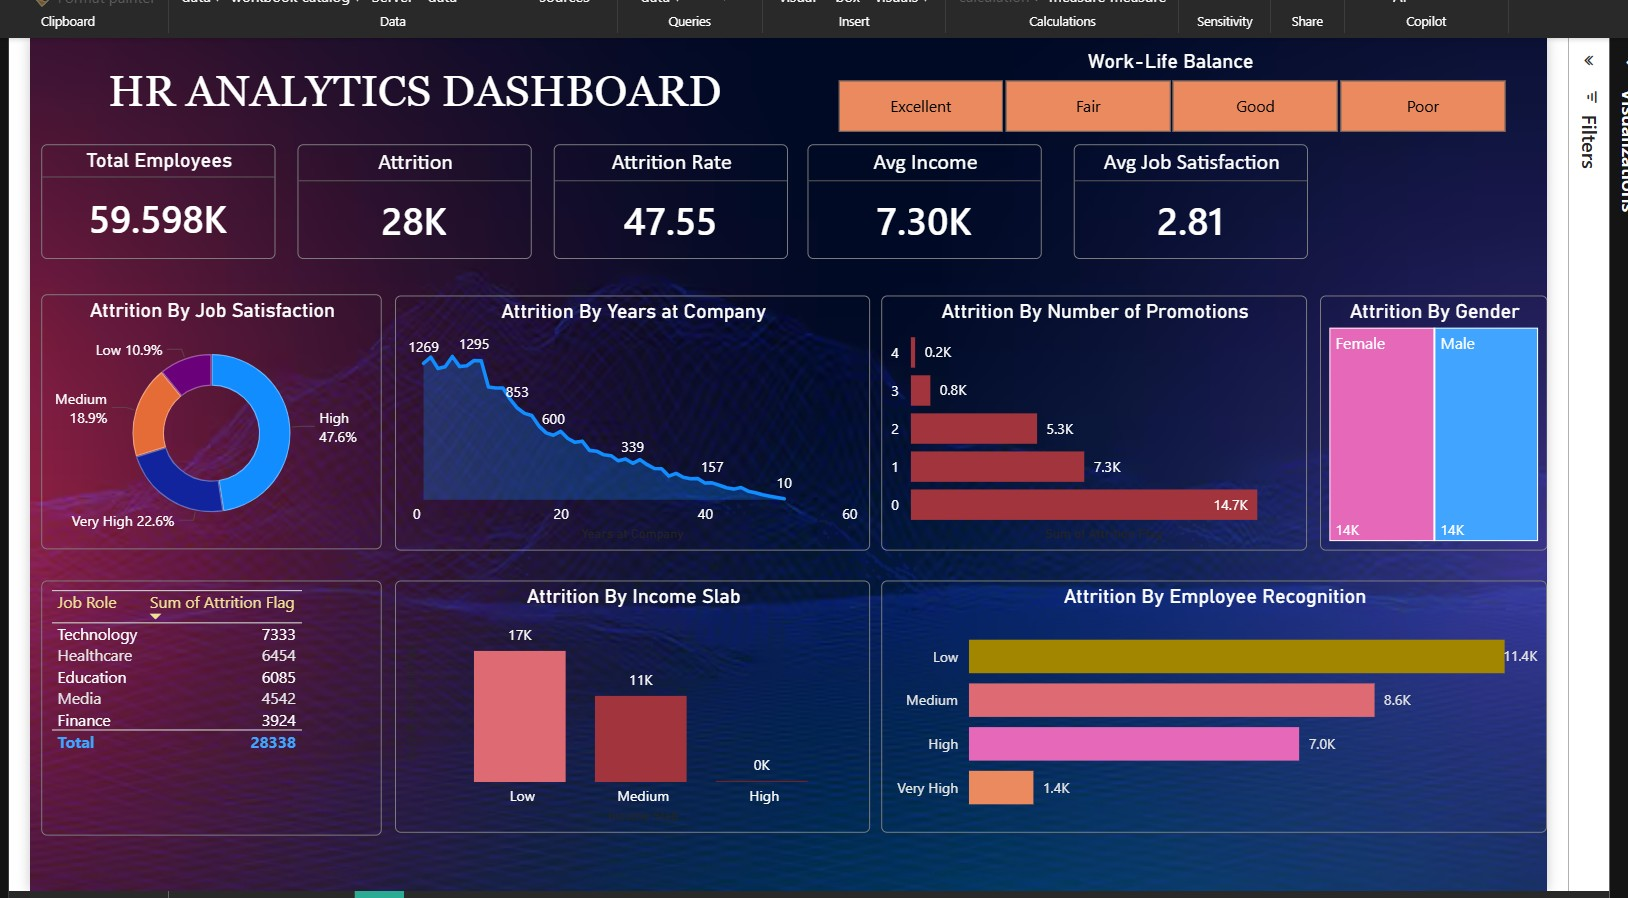

This screenshot's page, from the dashboard's own definition file:
{"tool":"powerbi","page":{"name":"Attrition Dashboard","canvas":[1280,720],"ordinal":0},"visuals":[{"type":"textbox","box":[9.3,17.4,630.2,59.3],"z":0},{"type":"cardVisual","title":"Total Employees","fields":{"Data":["CountNonNull(Table1.Employee ID)"]},"box":[9.3,89.5,197.7,96.5],"z":1000},{"type":"cardVisual","title":"Attrition ","fields":{"Data":["Sum(Table1.Attrition Flag)"]},"box":[225.6,89.5,197.7,96.5],"z":2000},{"type":"cardVisual","title":"Avg Income","fields":{"Data":["Avg(Table1.Monthly Income)"]},"box":[655.8,89.5,197.7,96.5],"z":3000},{"type":"cardVisual","title":"Attrition Rate","fields":{"Data":["Table1.Attrition Rate"]},"box":[441.9,89.5,197.7,96.5],"z":4000},{"type":"cardVisual","title":"Avg Job Satisfaction","fields":{"Data":["Avg(Table1.Satisfaction Level)"]},"box":[880.2,89.5,197.7,96.5],"z":5000},{"type":"donutChart","title":"Attrition By Job Satisfaction","fields":{"Y":["Sum(Table1.Attrition Flag)"],"Category":["Table1.Job Satisfaction"]},"box":[9.3,216.3,287.2,215.1],"z":6000},{"type":"tableEx","fields":{"Values":["Table1.Job Role","Sum(Table1.Attrition Flag)"]},"box":[9,458,287,215],"z":7000},{"type":"areaChart","title":"Attrition By Years at Company","fields":{"Category":["Table1.Years at Company"],"Y":["Sum(Table1.Attrition Flag)"]},"box":[308.1,217.4,401.2,215.1],"z":7001},{"type":"clusteredBarChart","title":"Attrition By Number of Promotions","fields":{"Category":["Table1.Number of Promotions"],"Y":["Sum(Table1.Attrition Flag)"]},"box":[718.6,217.4,359.3,215.1],"z":7002},{"type":"clusteredColumnChart","title":"Attrition By Income Slab","fields":{"Category":["Table1.Income Slab"],"Y":["Sum(Table1.Attrition Flag)"]},"box":[308.1,458.1,401.2,212.8],"z":7003},{"type":"clusteredBarChart","title":"Attrition By Employee Recognition","fields":{"Category":["Table1.Employee Recognition"],"Y":["Sum(Table1.Attrition Flag)"]},"box":[718.6,458.1,561.6,212.8],"z":7004},{"type":"treemap","title":"Attrition By Gender","fields":{"Details":["Table1.Gender"],"Values":["Sum(Table1.Attrition Flag)"]},"box":[1088.4,217.4,191.9,215.1],"z":7005},{"type":"slicer","title":"Work-Life Balance","fields":{"Values":["Table1.Work-Life Balance"]},"box":[655.8,9.3,612.8,76.7],"z":7006}]}

Visuals, with their boxes on the page's 1280x720 design canvas (x1, y1, x2, y2). These are canvas units, not pixel positions in the 1628x898 screenshot, which may show the page scaled, cropped or inside an application window:
textbox: box=[9, 17, 640, 77]
"Total Employees" cardVisual: box=[9, 90, 207, 186]
"Attrition " cardVisual: box=[226, 90, 423, 186]
"Avg Income" cardVisual: box=[656, 90, 854, 186]
"Attrition Rate" cardVisual: box=[442, 90, 640, 186]
"Avg Job Satisfaction" cardVisual: box=[880, 90, 1078, 186]
"Attrition By Job Satisfaction" donutChart: box=[9, 216, 296, 431]
tableEx - Table1.Job Role x Sum(Table1.Attrition Flag): box=[9, 458, 296, 673]
"Attrition By Years at Company" areaChart: box=[308, 217, 709, 432]
"Attrition By Number of Promotions" clusteredBarChart: box=[719, 217, 1078, 432]
"Attrition By Income Slab" clusteredColumnChart: box=[308, 458, 709, 671]
"Attrition By Employee Recognition" clusteredBarChart: box=[719, 458, 1280, 671]
"Attrition By Gender" treemap: box=[1088, 217, 1280, 432]
"Work-Life Balance" slicer: box=[656, 9, 1269, 86]
